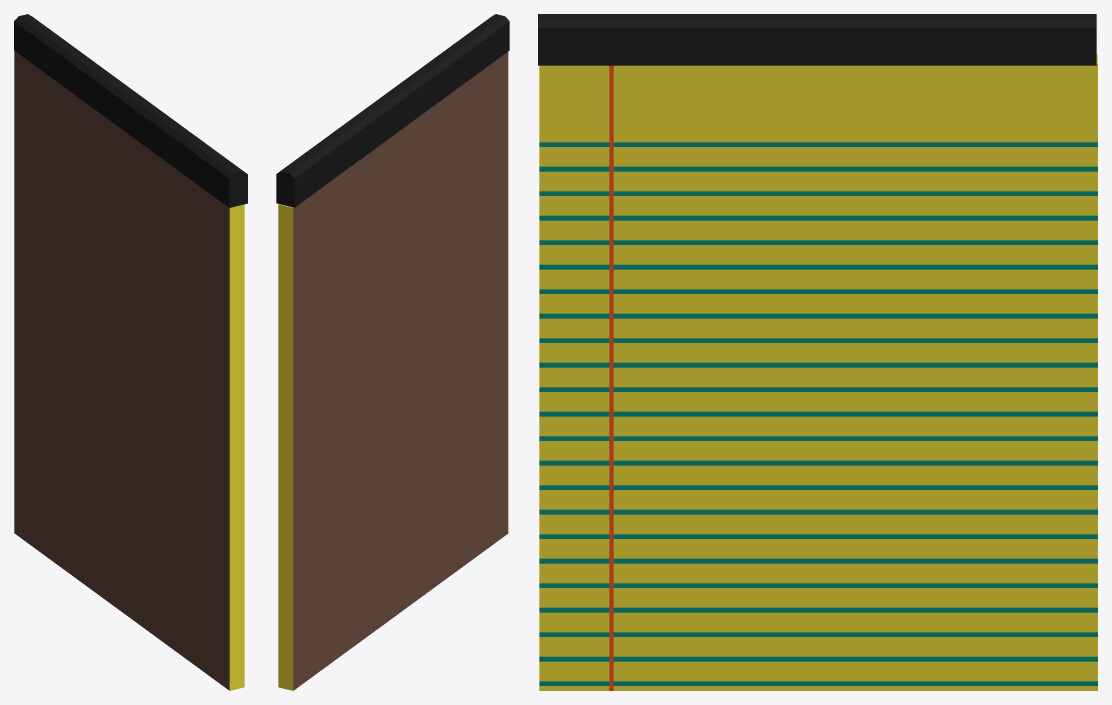
Rendered from Paper.glb.
3 renders of one model, left to right at view 1: azimuth 30°, elevation 25°; view 2: azimuth 150°, elevation 25°; view 3: azimuth 270°, elevation 25°, orthographic. The views are drawn at different scales.
Visible parts, largest first — view 1: group643907417, group1742718408; view 2: group643907417, group1742718408; view 3: group643907417, group1742718408.
Part boxes in pixels (box(x1,y1,x2,y2)): group643907417: box(14, 51, 244, 690); group1742718408: box(14, 14, 247, 207); group643907417: box(278, 52, 508, 690); group1742718408: box(276, 14, 509, 207); group643907417: box(539, 54, 1097, 690); group1742718408: box(538, 14, 1096, 65).
Size of the model in its own units: 0.1 by 2.66 by 2.02.
